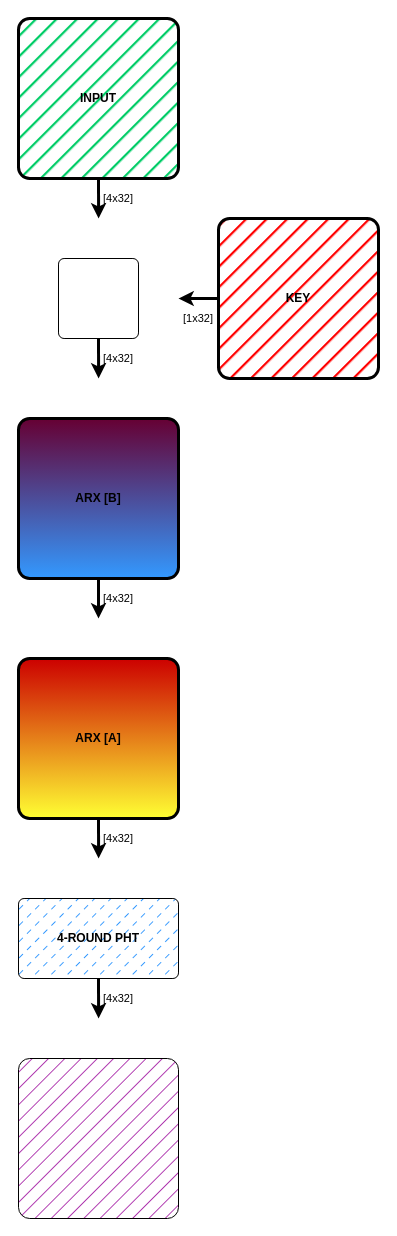
Image size: 397x1236. Some labels were removed from this diagram. The box of each missing label's shape, as (x1, y1, x2, y2) in pixels:
OUTPUT: (18, 1058, 178, 1218)
XOR: (58, 258, 138, 338)
